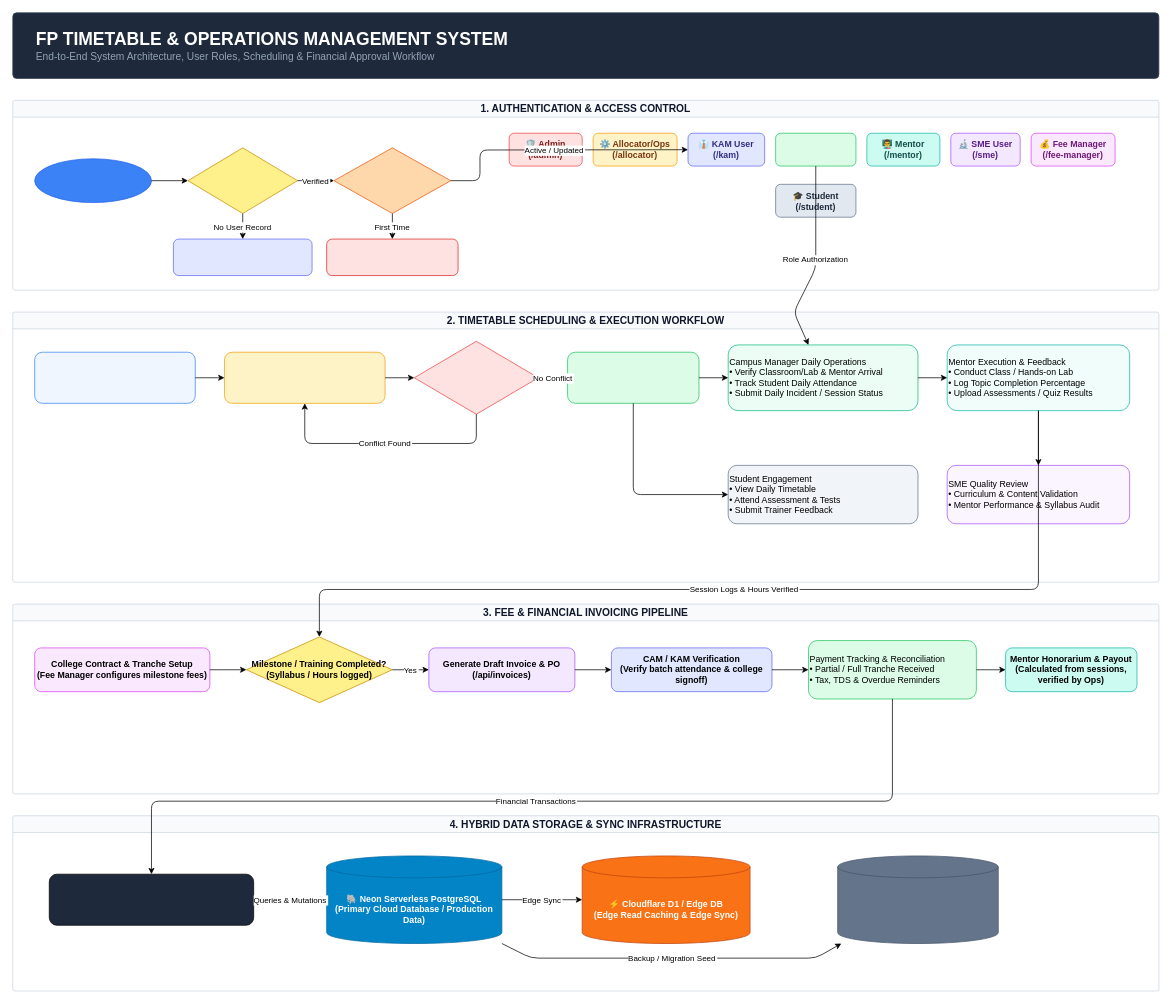
This 1172x1004 diagram has some shape labels left out. Here are the shapes that lost their labels. From the top down, the centre of each, then its label:
[815,149]: 🏫 Campus Mgr (/cam)
[92,180]: User Enters Portal (Email / Username / ID)
[242,180]: Verify Credentials (/api/login)
[392,180]: Temporary Password? (Must Change Pass)
[242,257]: Auto-Provisioning Fallback (Lookup CAM / Mentor / KAM / SME)
[392,257]: Prompt Password Update (/api/auth/change-password)
[114,377]: College & Batch Setup (KAM / Admin creates Colleges, Batches, Requirements)
[304,377]: Mentor & Topic Allocation (Allocator/Ops matches Mentors, Subjects, Time Slots)
[476,377]: Conflict Detection (Checks Mentor Availability, Overlaps, Lab Capacity)
[633,377]: Publish Timetable (Slots Locked & Visible on Portal)
[151,899]: Next.js App Router API Layer (/api/login, /api/cam, /api/admin, /api/db/sync)
[917,899]: 💾 Local SQLite / Cache (Local Dev & Offline Resilient Store)
